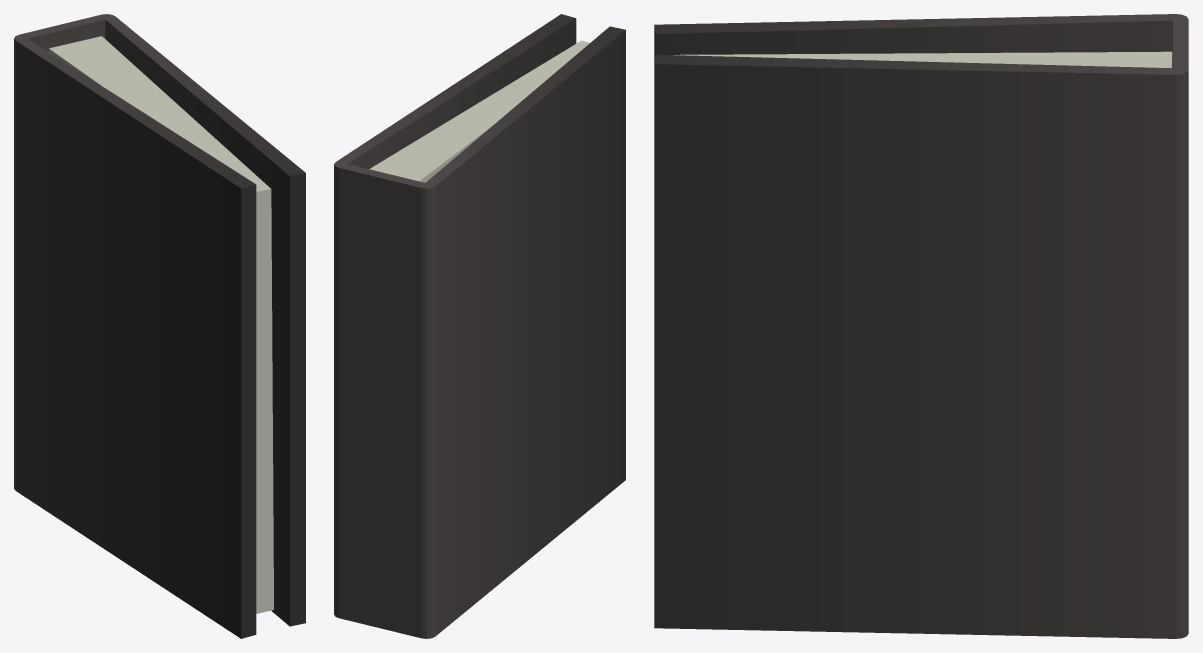
Rendered from Paperfolder.fbx.
The picture shows the model from 3 angles, left to right: view 1: azimuth 30°, elevation 25°; view 2: azimuth 150°, elevation 25°; view 3: azimuth 270°, elevation 25°; orthographic projection. The views are drawn at different scales.
Parts seen in each view (by area): view 1: Paperfolder; view 2: Paperfolder; view 3: Paperfolder.
Boxes of the visible parts, left/top/right/bottom form: Paperfolder: left=14, top=14, right=305, bottom=638; Paperfolder: left=334, top=14, right=625, bottom=638; Paperfolder: left=654, top=14, right=1188, bottom=638.
Bounding box in the file's own units: 8.51 × 36.77 × 31.54.
